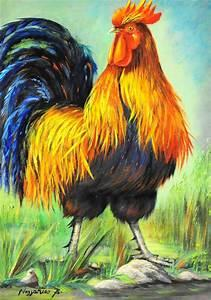hen: (0, 0, 195, 273)
